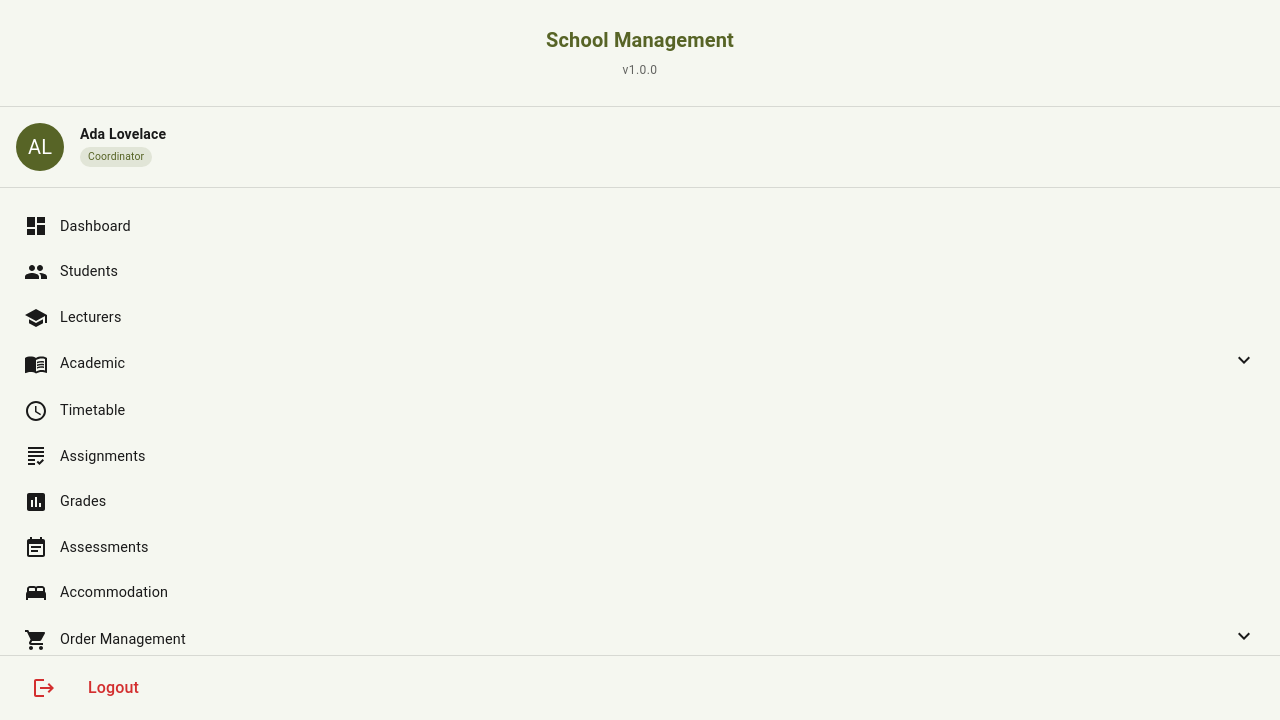
it: OMS navigation › exposes dashboard, orders and new-order links to a Coordinator
Click the button "Order Management" at (123, 640), box [24,624,1256,652]
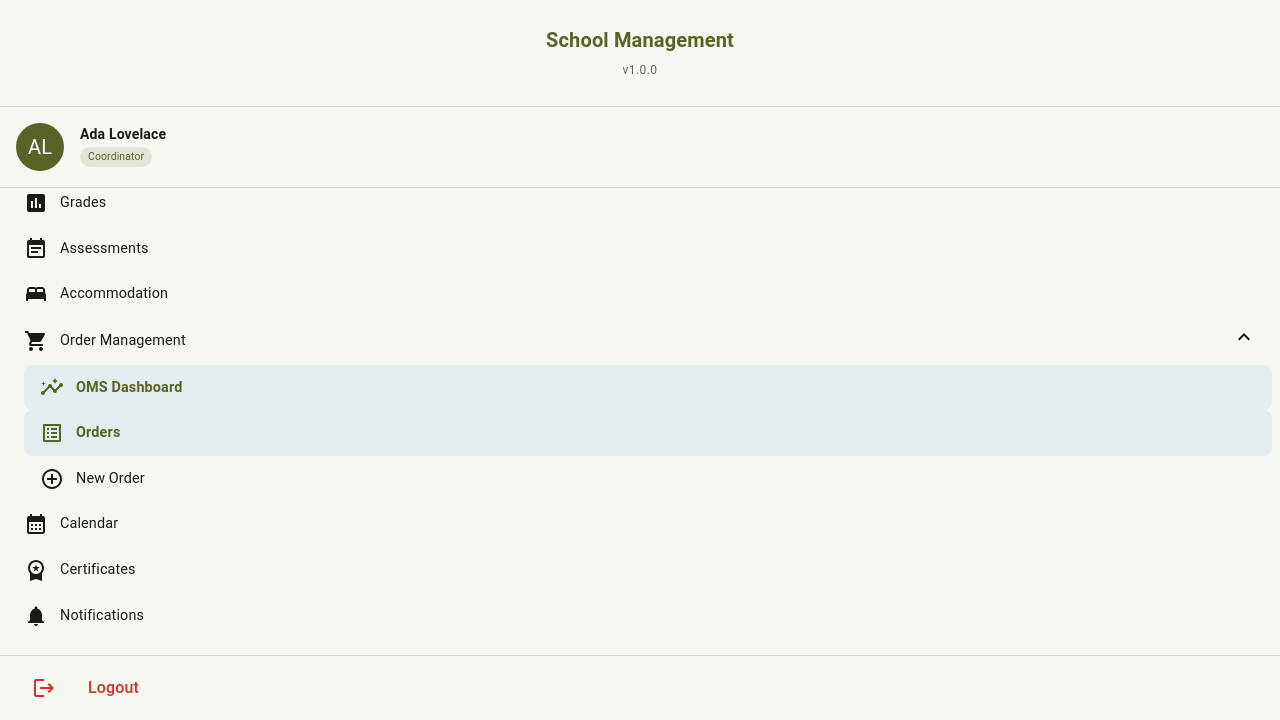
Expected: the text "OMS Dashboard" is shown, [76,379,182,396]
Expected: the text "Orders" is shown, [76,424,120,441]
Expected: the text "New Order" is shown, [76,470,145,487]
